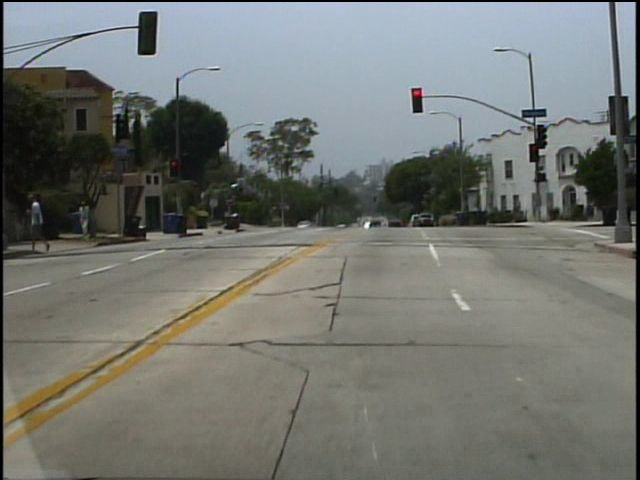person: (28, 191, 57, 253), (82, 201, 96, 242)
